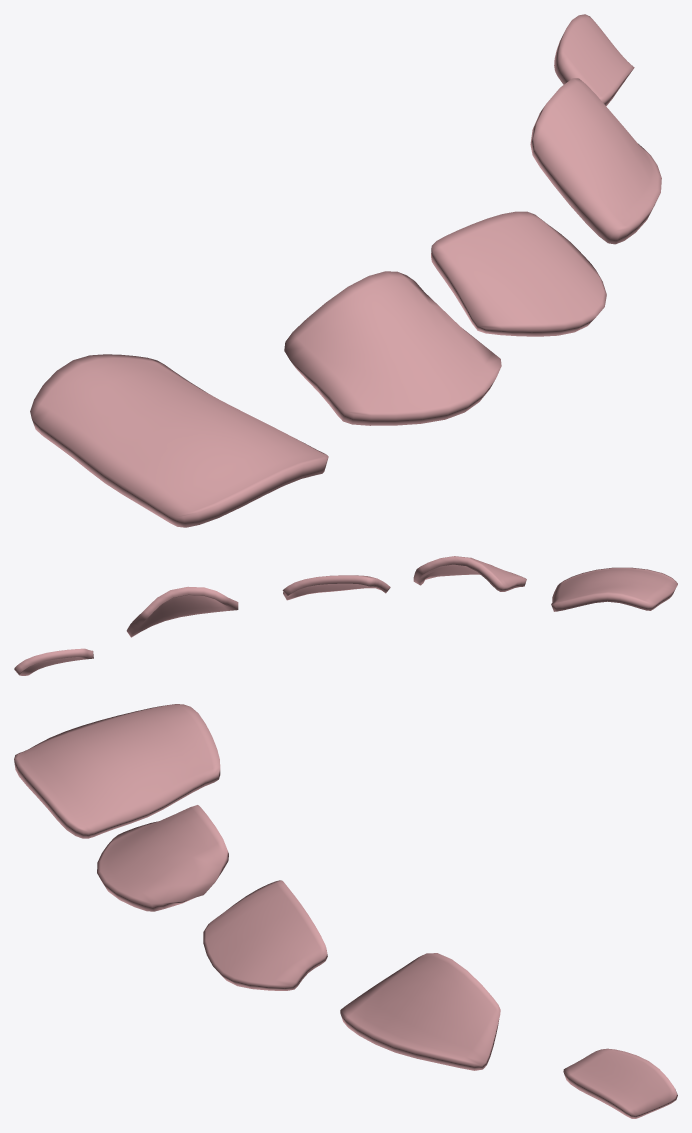
3 views of the same model, one above another, from view 1: azimuth 30°, elevation 25°; view 2: azimuth 150°, elevation 25°; view 3: azimuth 270°, elevation 25° (orthographic). The views are drawn at different scales.
Visible parts, largest first — view 1: ZA_eb1f6419801ddfc9; view 2: ZA_eb1f6419801ddfc9; view 3: ZA_eb1f6419801ddfc9.
Part boxes in pixels (x1,y1,x2,y2): ZA_eb1f6419801ddfc9: (30, 14, 661, 527); ZA_eb1f6419801ddfc9: (14, 556, 677, 675); ZA_eb1f6419801ddfc9: (14, 704, 677, 1118).
Size of the model in its own units: 0.0678 by 0.0107 by 0.0582.
